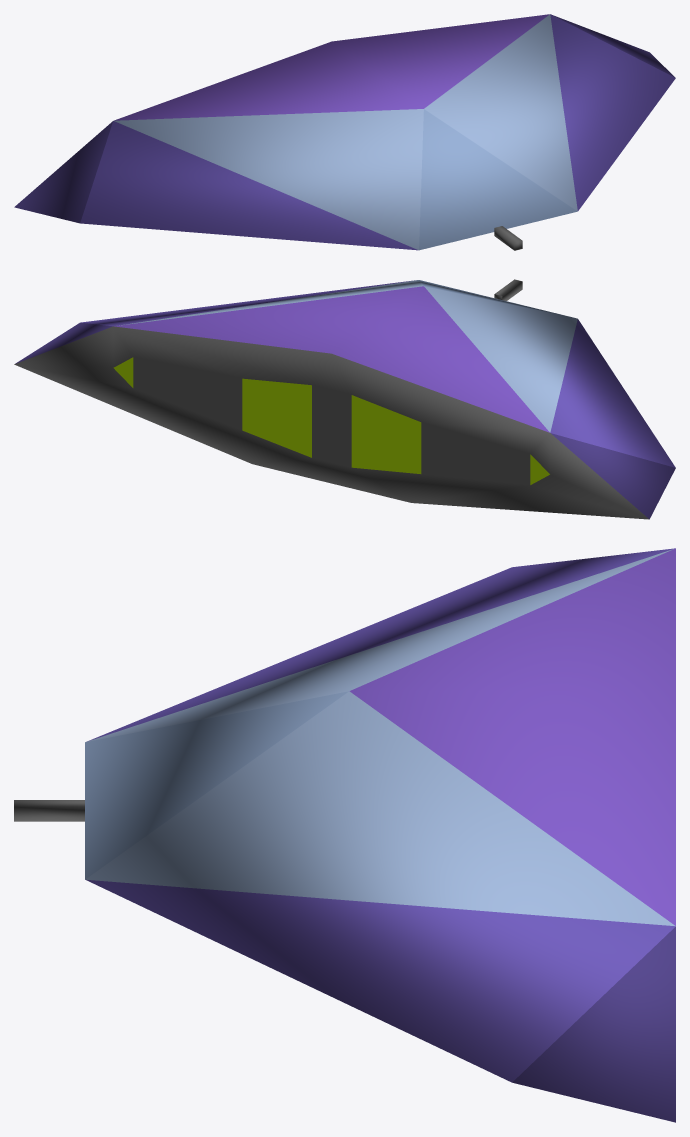
Rendered from cobramk3.fbx.
The picture shows the model from 3 angles, top to bottom: view 1: azimuth 30°, elevation 25°; view 2: azimuth 150°, elevation 25°; view 3: azimuth 270°, elevation 25°; orthographic projection. The views are drawn at different scales.
Parts seen in each view (by area): view 1: CobraMk3; view 2: CobraMk3; view 3: CobraMk3.
Boxes of the visible parts, bbox=[...] form: CobraMk3: bbox=[14, 14, 675, 250]; CobraMk3: bbox=[14, 279, 675, 519]; CobraMk3: bbox=[14, 548, 675, 1122].
Size of the model in its own units: 3.2 by 0.625 by 1.63.
